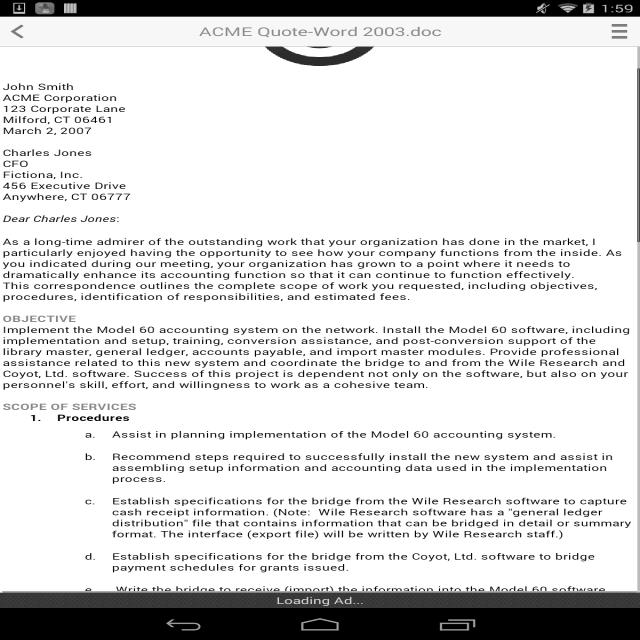ImageButton: (598, 20, 631, 41), (3, 23, 37, 40)
TextView: (6, 312, 602, 391), (5, 233, 631, 299), (109, 495, 604, 539), (106, 444, 608, 483), (2, 145, 147, 203), (4, 78, 126, 139), (188, 22, 438, 42), (1, 399, 139, 421)
